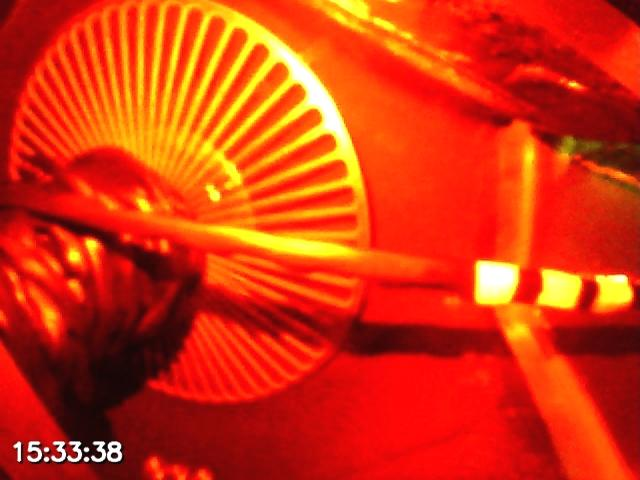white-dots: (474, 260, 635, 315)
